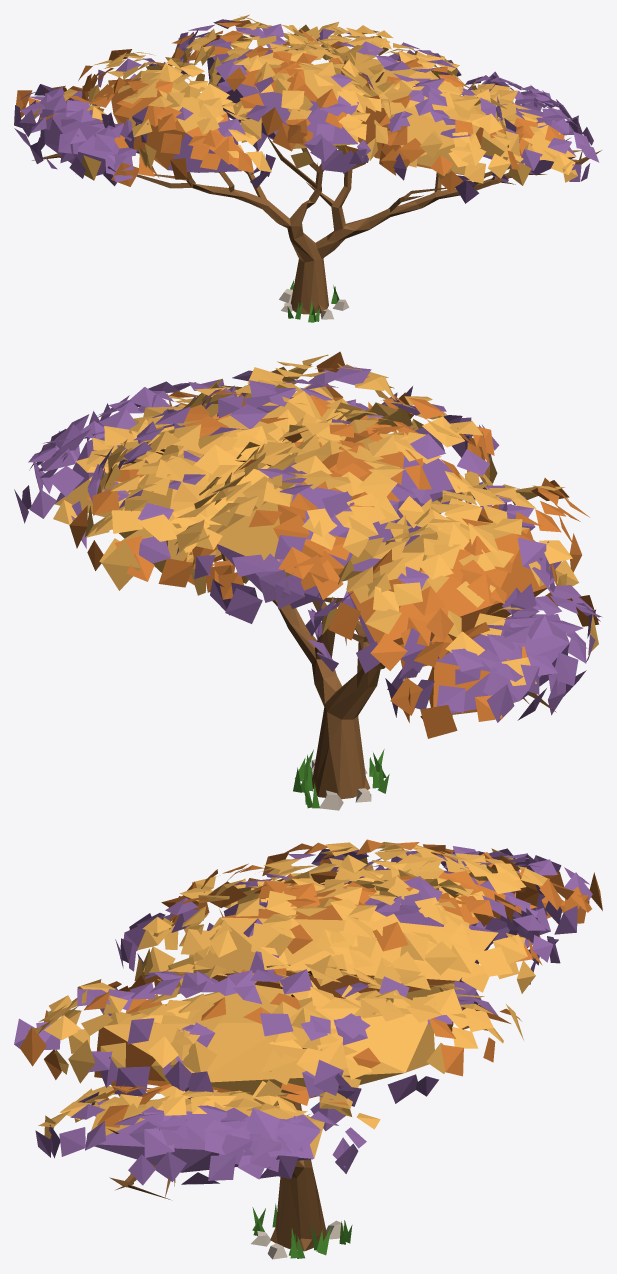
File: jacaranda_4_autumn.glb
3 views of the same model, one above another, from view 1: azimuth 30°, elevation 25°; view 2: azimuth 150°, elevation 25°; view 3: azimuth 270°, elevation 25° (orthographic). The views are drawn at different scales.
Parts seen in each view (by area): view 1: jacaranda_4_autumn; view 2: jacaranda_4_autumn; view 3: jacaranda_4_autumn.
Part boxes in pixels (x1,y1,x2,y2): jacaranda_4_autumn: (14, 14, 601, 322); jacaranda_4_autumn: (14, 351, 602, 810); jacaranda_4_autumn: (14, 839, 602, 1259).
Bounding box in the file's own units: 10.94 × 5.91 × 9.17.
